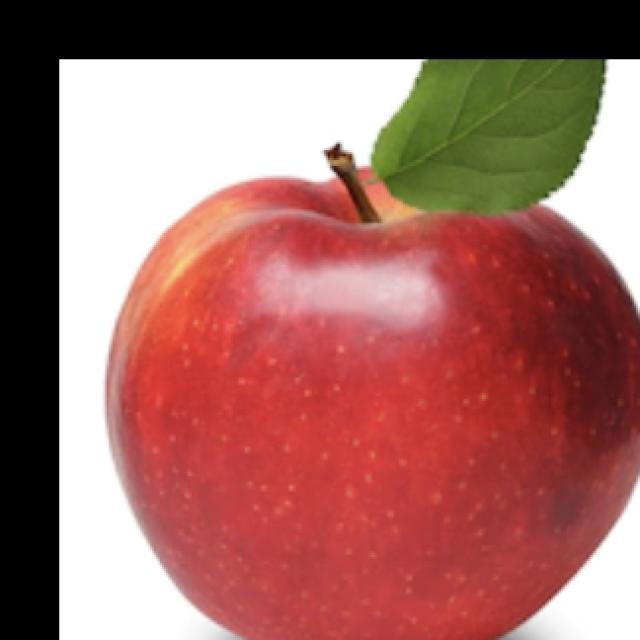Apple: (104, 142, 639, 639)
